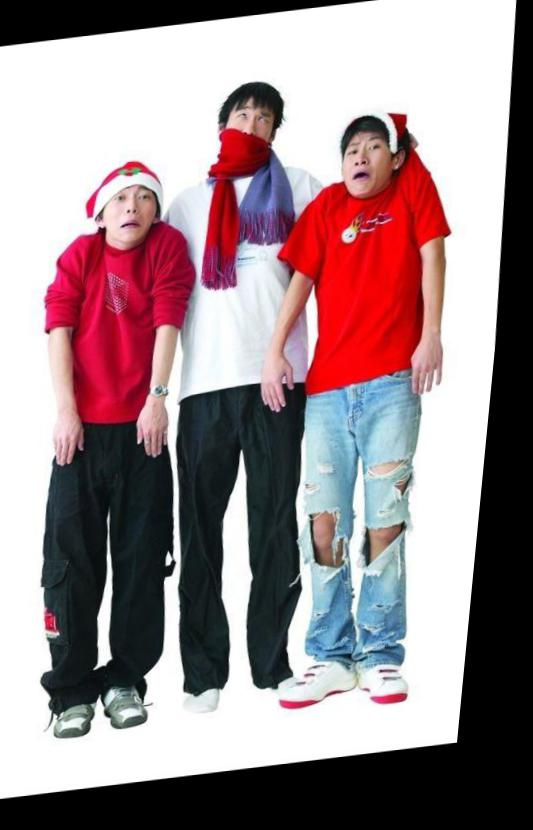NONE: (342, 141, 398, 204), (110, 189, 161, 247)
WRONG: (223, 106, 285, 168)
